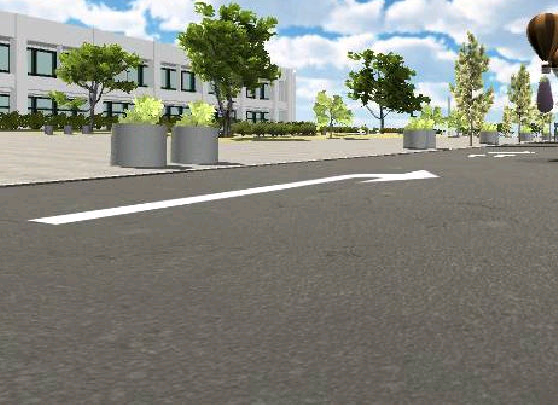ground_right: (299, 167, 445, 184)
